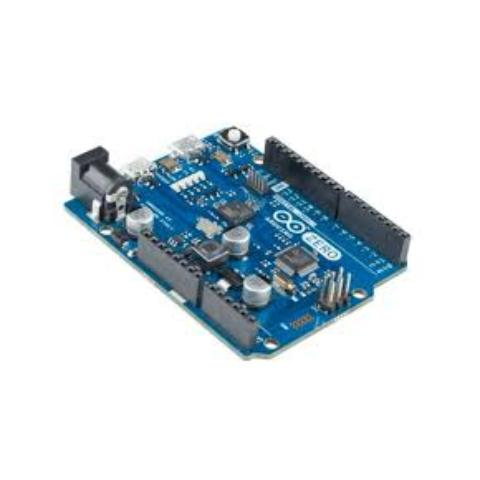Arduino-Zero: (41, 98, 431, 376)
